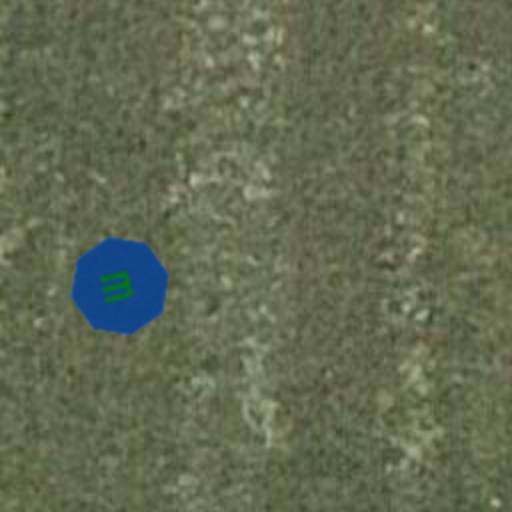octagon: (58, 224, 182, 348)
